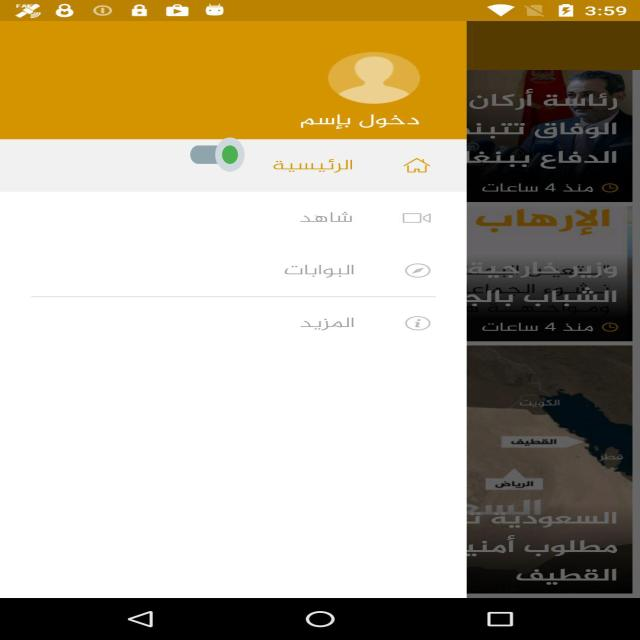social proof: (190, 123, 245, 186)
